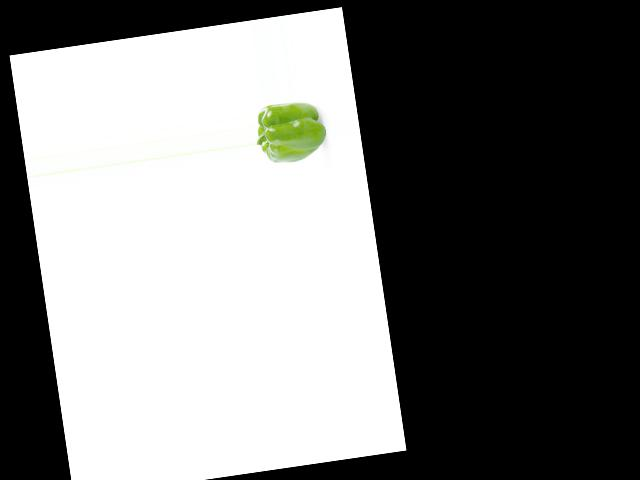bell_pepper: (252, 96, 327, 167)
